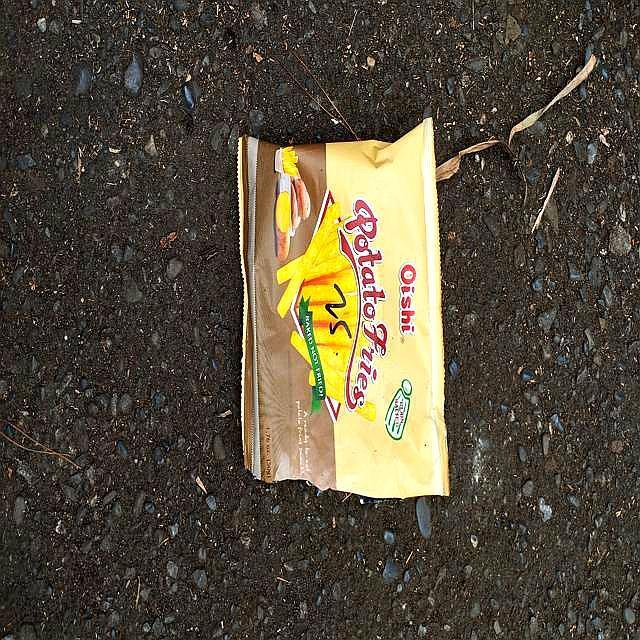Non-biodegradable: (236, 117, 451, 500)
